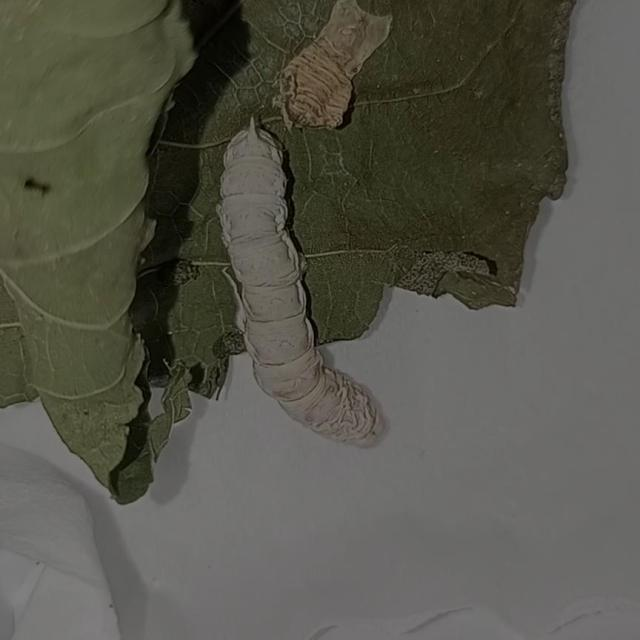Healthy: (199, 111, 402, 454)
